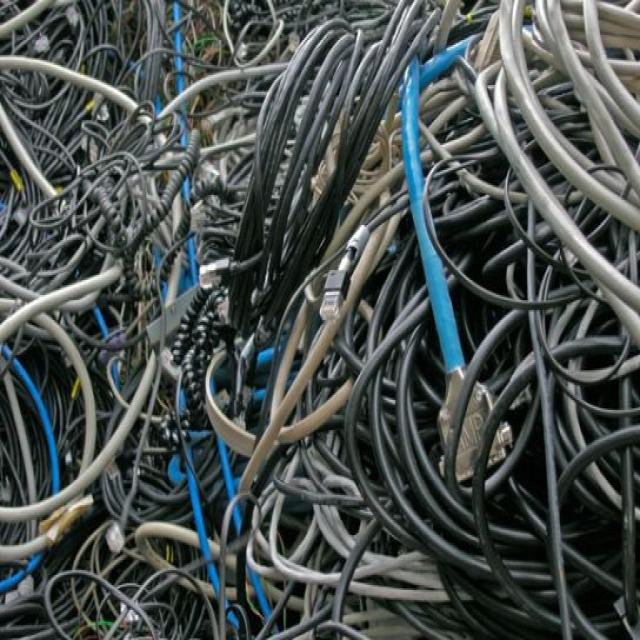electronic: (0, 0, 639, 638), (24, 0, 640, 640)
